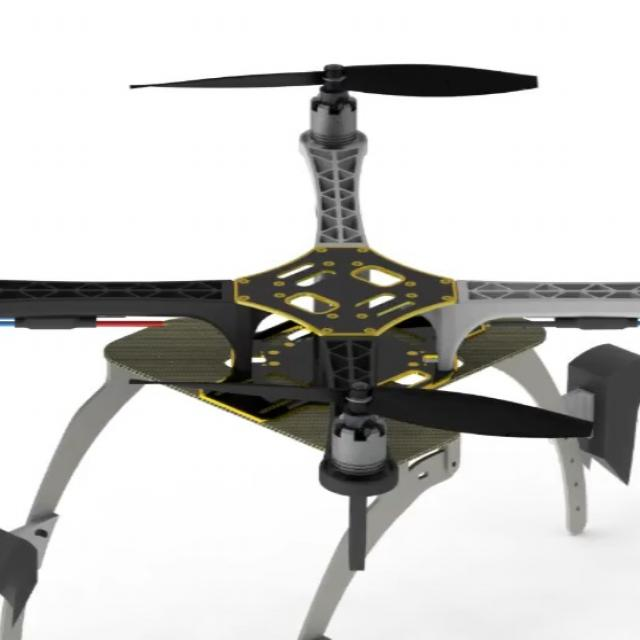drone: (0, 41, 640, 583)
